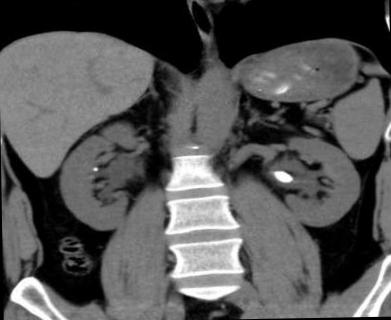Tas_Var: (270, 168, 296, 185), (90, 166, 101, 173)
